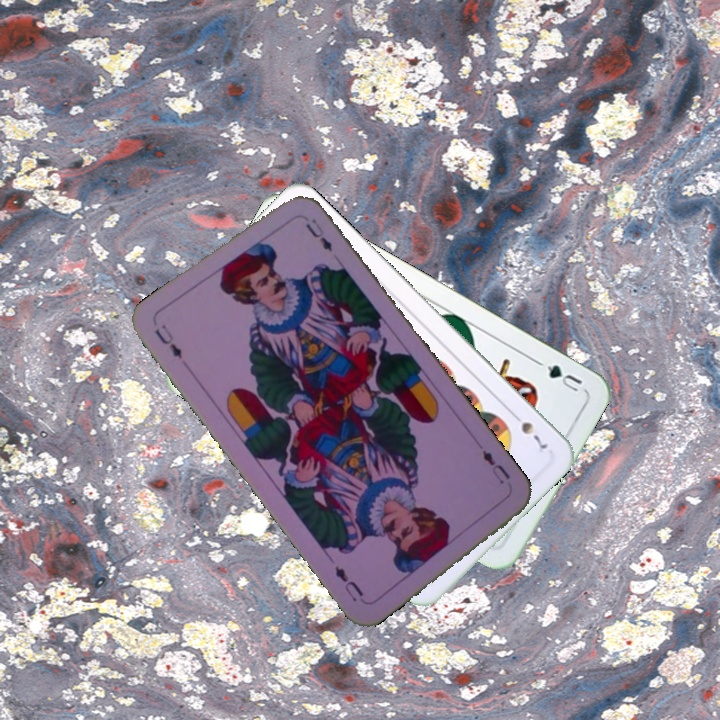EU: (478, 445, 513, 487), (150, 320, 185, 362)
GU: (533, 357, 585, 396)
S7: (507, 407, 550, 452)
